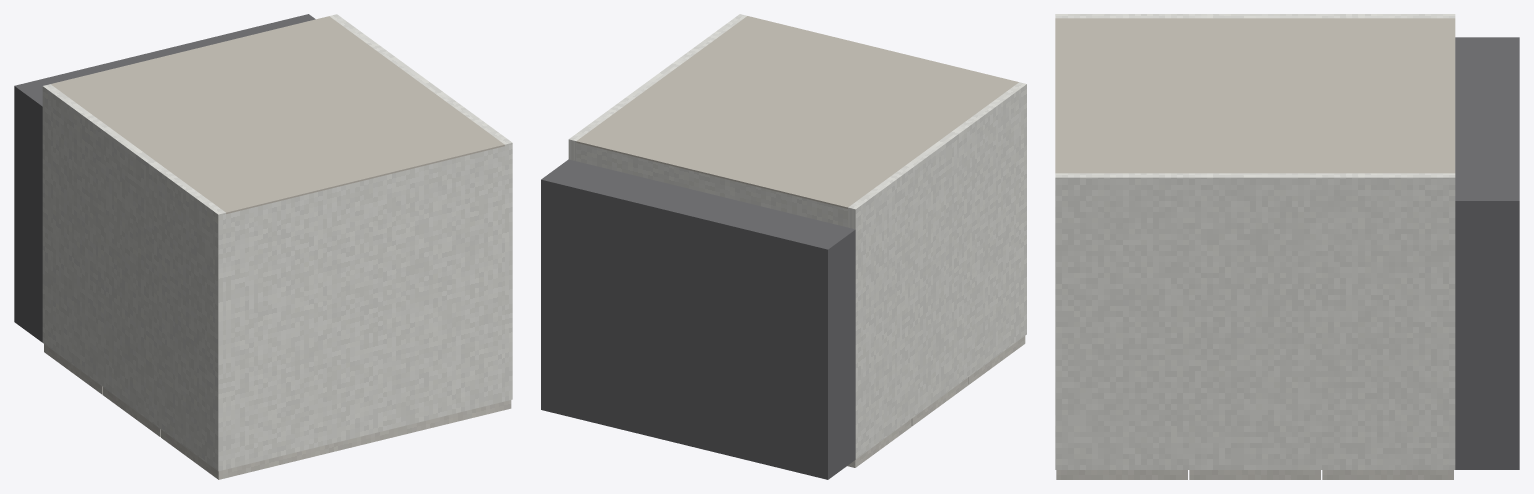
File: drawers_600.obj
3 views of the same model, side by side, from view 1: azimuth 30°, elevation 25°; view 2: azimuth 150°, elevation 25°; view 3: azimuth 270°, elevation 25° (orthographic). The views are drawn at different scales.
Parts seen in each view (by area): view 1: krysha, bokovina_levaya, zadnyaya_stenka, cokol, bokovina_pravaya, fasad_yaschika_3, fasad_yaschika_1, fasad_yaschika_2; view 2: cokol, zadnyaya_stenka, bokovina_levaya, dno, bokovina_pravaya, fasad_yaschika_1; view 3: bokovina_pravaya, zadnyaya_stenka, cokol, bokovina_levaya, fasad_yaschika_1, fasad_yaschika_2, fasad_yaschika_3.
Boxes of the visible parts, <box> form: krysha: <box>226,146,504,469</box>; bokovina_levaya: <box>42,84,225,471</box>; zadnyaya_stenka: <box>51,16,504,213</box>; cokol: <box>14,14,315,342</box>; bokovina_pravaya: <box>329,14,512,401</box>; fasad_yaschika_3: <box>161,400,511,479</box>; fasad_yaschika_1: <box>44,344,102,394</box>; fasad_yaschika_2: <box>102,387,160,436</box>; cokol: <box>541,159,855,479</box>; zadnyaya_stenka: <box>576,16,1018,208</box>; bokovina_levaya: <box>848,82,1026,459</box>; dno: <box>576,143,847,227</box>; bokovina_pravaya: <box>568,14,746,160</box>; fasad_yaschika_1: <box>847,419,911,467</box>; bokovina_pravaya: <box>1055,173,1455,469</box>; zadnyaya_stenka: <box>1055,18,1455,173</box>; cokol: <box>1455,37,1519,469</box>; bokovina_levaya: <box>1055,14,1455,18</box>; fasad_yaschika_1: <box>1322,470,1453,479</box>; fasad_yaschika_2: <box>1189,470,1320,479</box>; fasad_yaschika_3: <box>1056,470,1187,479</box>.
Bounding box in the file's own units: 600 × 518 × 720.
